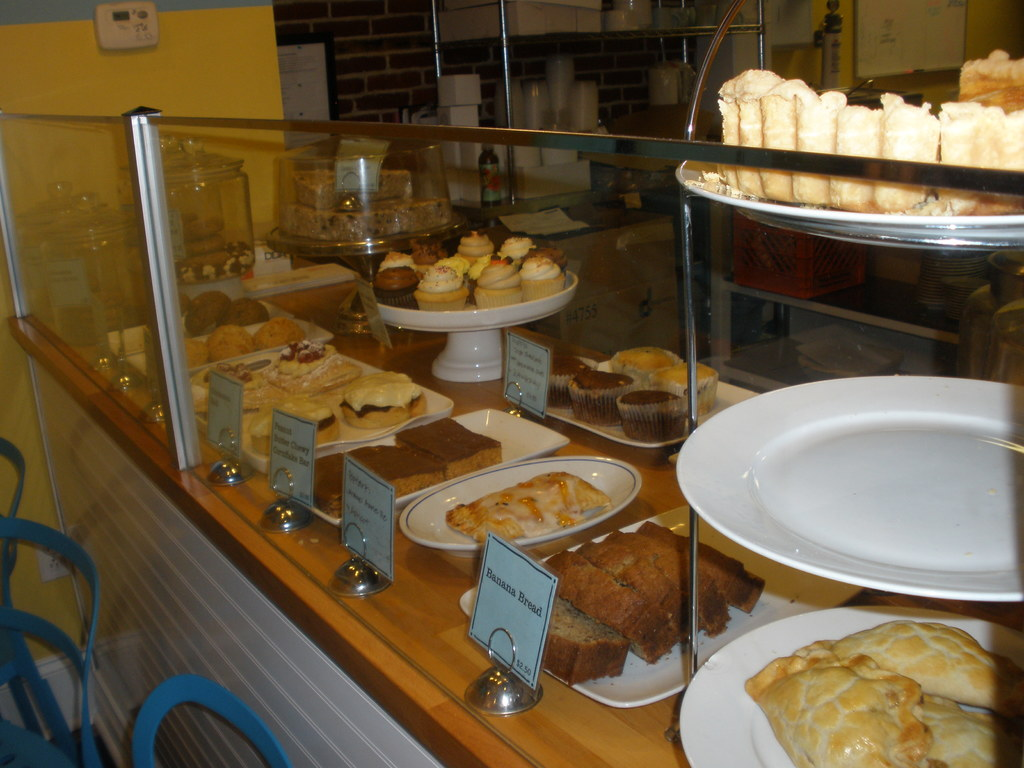plate: (461, 501, 794, 706), (293, 394, 552, 536), (529, 343, 768, 459), (392, 462, 642, 556)
